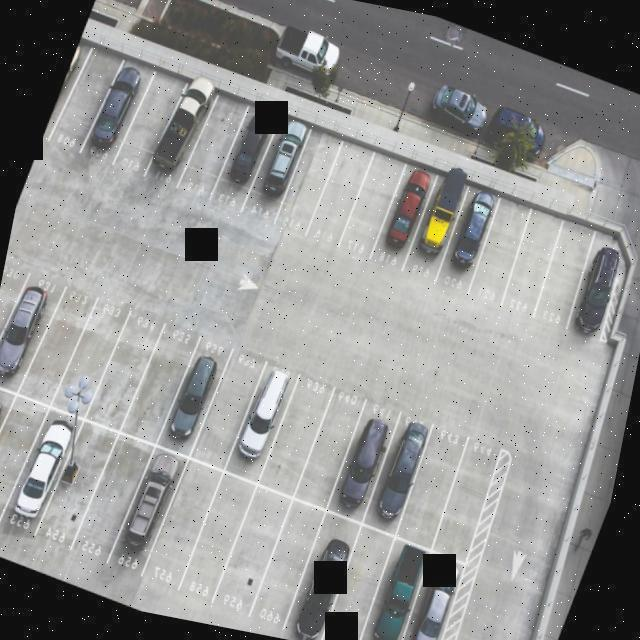car: (33, 421, 114, 554), (2, 406, 82, 536), (284, 510, 360, 640), (226, 360, 301, 486), (559, 225, 634, 350), (110, 441, 180, 572), (368, 157, 442, 280), (362, 414, 436, 536), (328, 396, 403, 516), (158, 336, 226, 460), (0, 270, 61, 403), (353, 536, 430, 640), (403, 170, 472, 285), (150, 78, 219, 188), (84, 58, 148, 166), (437, 188, 502, 294), (214, 99, 280, 202), (395, 551, 471, 640), (249, 114, 309, 215), (41, 44, 88, 150), (0, 387, 14, 514)
free: (246, 494, 328, 632), (212, 484, 292, 617), (142, 456, 222, 588), (180, 468, 257, 601), (74, 436, 154, 564), (318, 519, 402, 640), (20, 281, 94, 416), (123, 320, 198, 451), (258, 371, 334, 500), (89, 304, 162, 434), (528, 211, 603, 336), (429, 438, 504, 560), (192, 351, 264, 472), (337, 146, 408, 268), (295, 388, 367, 508), (56, 296, 126, 418), (398, 425, 470, 542), (307, 138, 378, 248), (276, 126, 346, 234), (115, 71, 183, 182), (468, 200, 535, 304), (182, 95, 245, 204), (501, 212, 566, 314), (54, 48, 114, 156), (0, 399, 45, 526), (0, 258, 32, 388)
